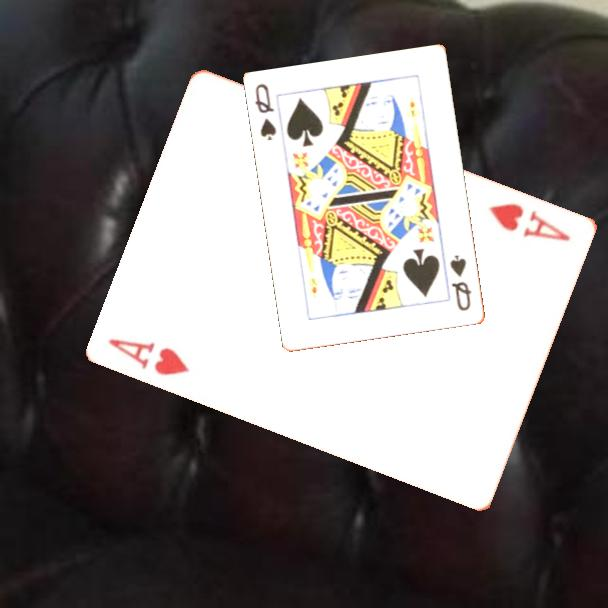h01: (486, 199, 574, 244), (105, 334, 193, 378)
s12: (447, 251, 475, 314), (252, 80, 280, 143)
